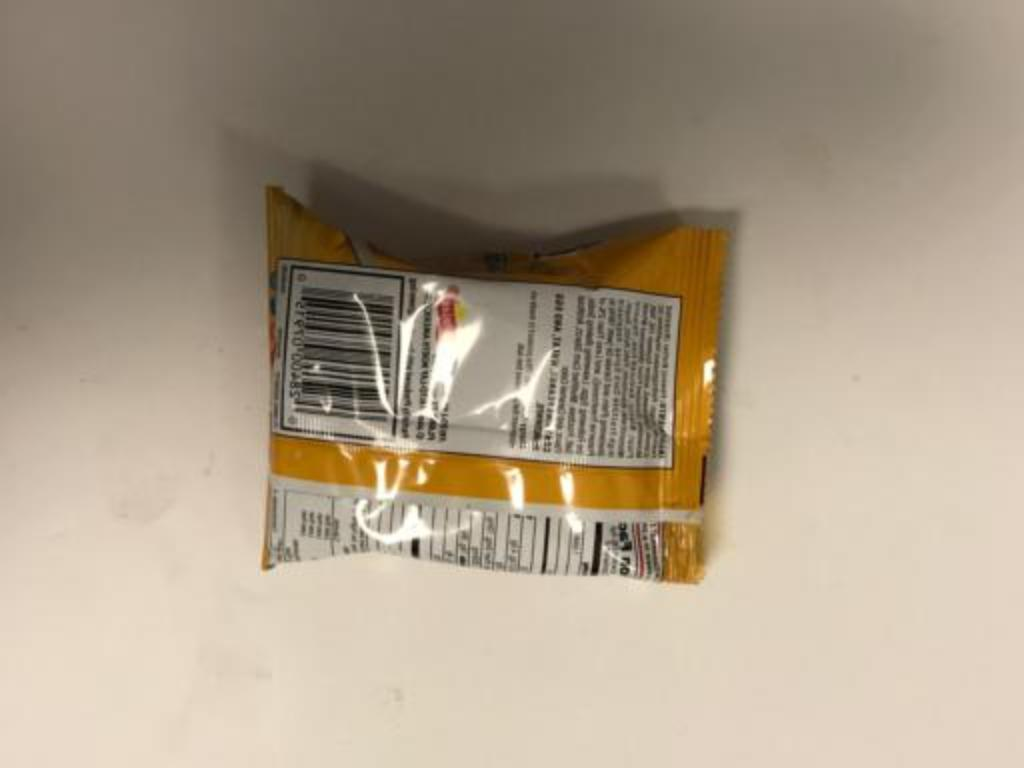garbage: (185, 191, 777, 685)
